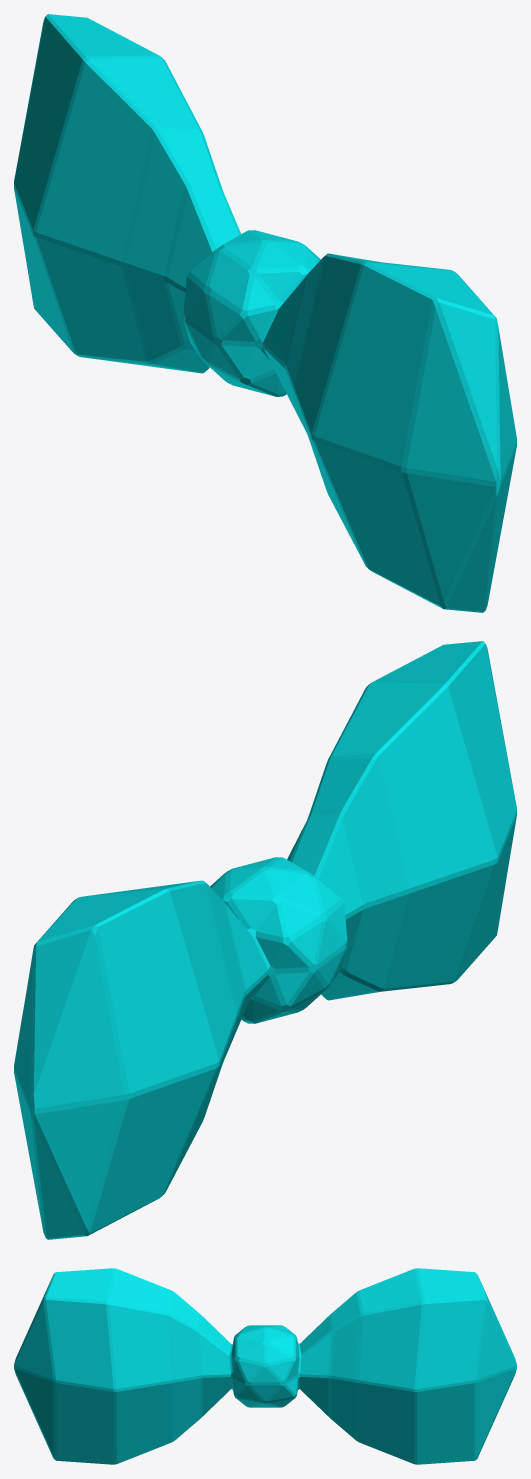
Rendered from bow.fbx.
The picture shows the model from 3 angles, top to bottom: view 1: azimuth 30°, elevation 25°; view 2: azimuth 150°, elevation 25°; view 3: azimuth 270°, elevation 25°; orthographic projection. The views are drawn at different scales.
Visible parts, largest first — view 1: Icosphere; view 2: Icosphere; view 3: Icosphere.
Boxes of the visible parts, <box> form: Icosphere: <box>14,14,516,612</box>; Icosphere: <box>14,641,516,1239</box>; Icosphere: <box>14,1268,516,1464</box>.
Bounding box in the file's own units: 356 × 605 × 1565.
